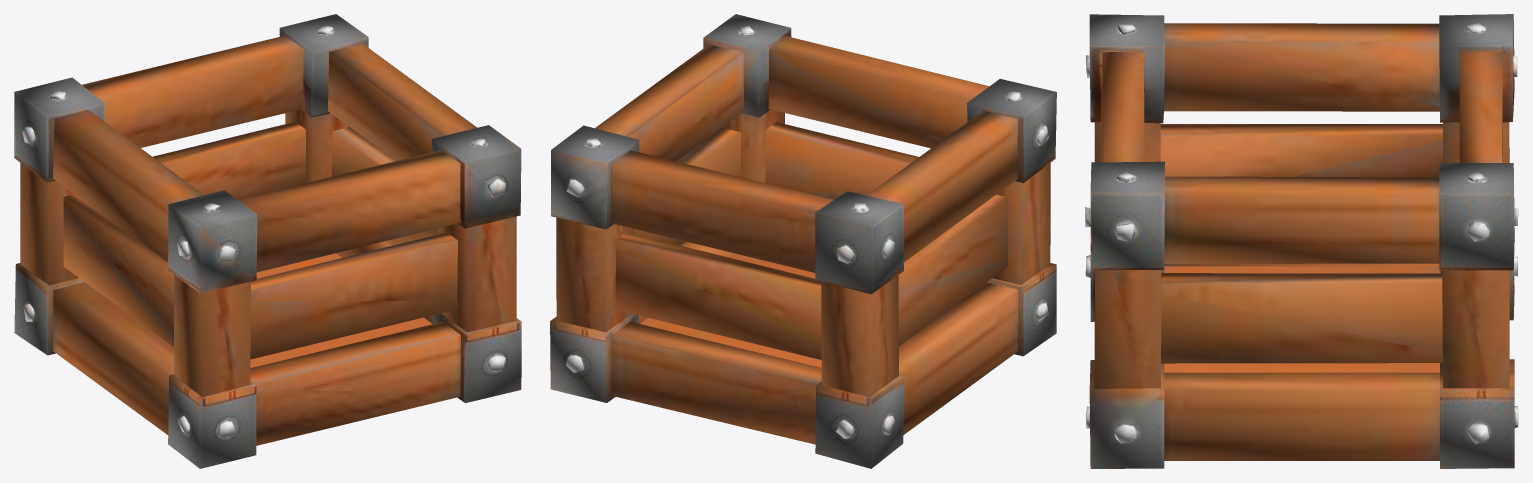
Rendered from crate_2.glb.
3 renders of one model, left to right at view 1: azimuth 30°, elevation 25°; view 2: azimuth 150°, elevation 25°; view 3: azimuth 270°, elevation 25°, orthographic. The views are drawn at different scales.
Visible parts, largest first — view 1: Mesh_0; view 2: Mesh_0; view 3: Mesh_0.
Boxes of the visible parts, left/top/right/bottom form: Mesh_0: left=14, top=14, right=521, bottom=468; Mesh_0: left=550, top=14, right=1056, bottom=468; Mesh_0: left=1085, top=14, right=1518, bottom=468.
Size of the model in its own units: 0.6005 by 0.4353 by 0.6004.
Materials: 1 (1 with a texture image).
